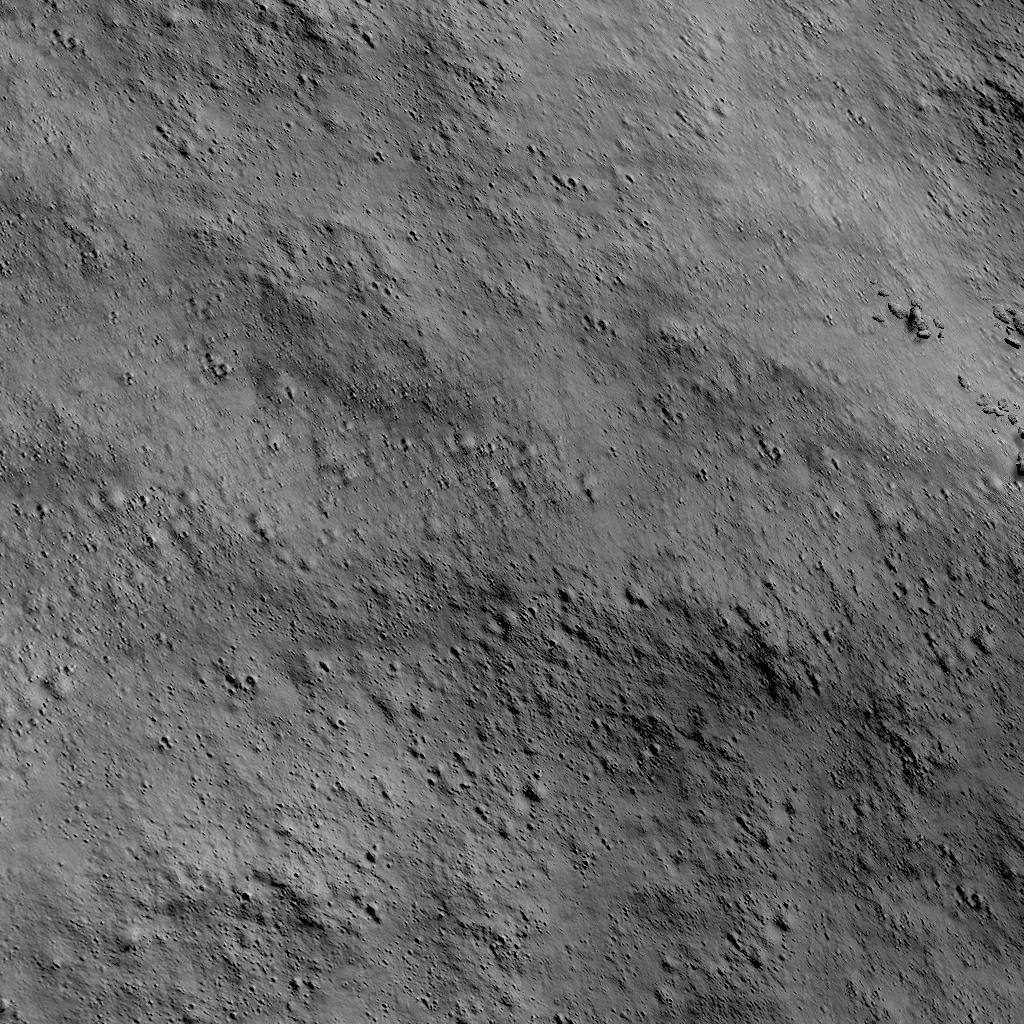Plan surface: (0, 0, 867, 1024)
